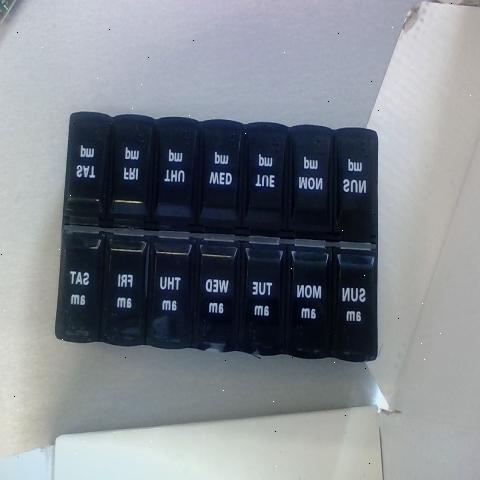FRI-am: (97, 227, 142, 342)
FRI-pm: (110, 116, 152, 225)
MON-am: (290, 241, 333, 357)
MON-pm: (289, 126, 331, 240)
SAT-am: (58, 239, 102, 332)
SAT-pm: (66, 110, 106, 216)
SUN-am: (334, 250, 373, 356)
SUN-pm: (334, 132, 376, 245)
THU-am: (146, 236, 190, 348)
THU-pm: (154, 117, 196, 226)
TUE-am: (245, 238, 289, 353)
TUE-pm: (242, 124, 287, 232)
WED-am: (192, 238, 238, 350)
WED-pm: (198, 121, 238, 228)
